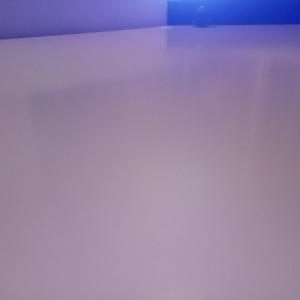dead_ball: (192, 5, 211, 26)
